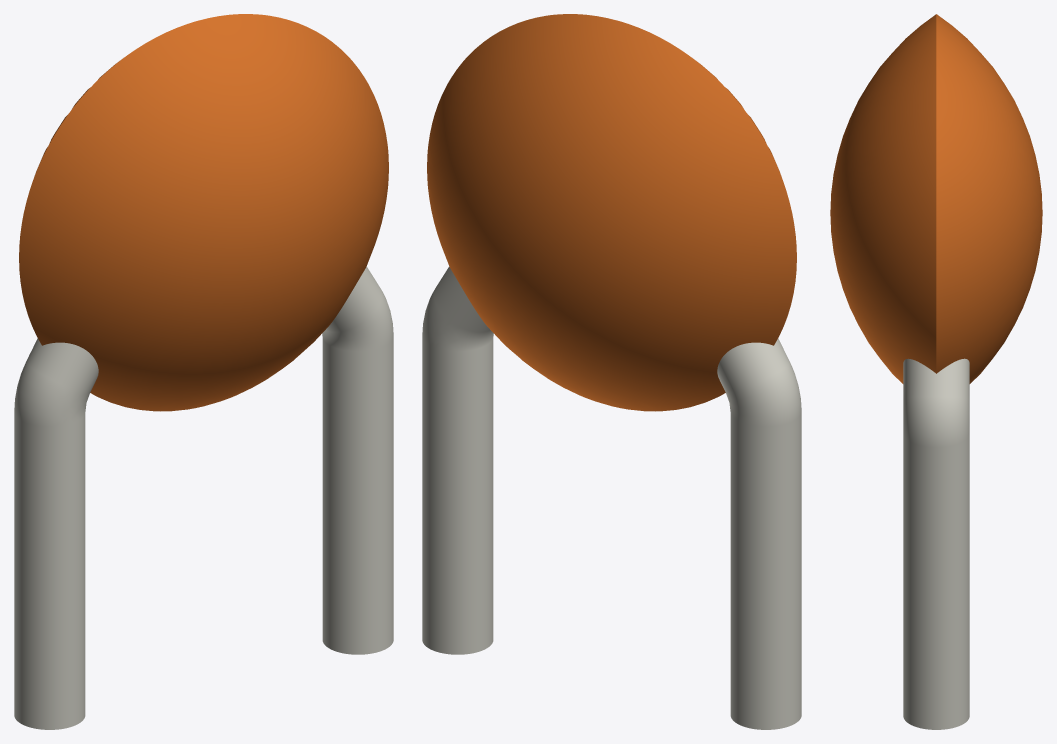
The model's file is c_disc_d3_0mm_w1_6mm_p2_50mm.glb.
3 views of the same model, side by side, from view 1: azimuth 30°, elevation 25°; view 2: azimuth 150°, elevation 25°; view 3: azimuth 270°, elevation 25° (orthographic). The views are drawn at different scales.
Visible parts, largest first — view 1: cap_ceramic_22p, pin_2, pin_1; view 2: cap_ceramic_22p, pin_2, pin_1; view 3: cap_ceramic_22p, pin_2.
Boxes of the visible parts, box(x1,y1,x2,y2) form: cap_ceramic_22p: box(14, 14, 393, 471); pin_2: box(322, 383, 393, 654); pin_1: box(14, 459, 85, 729); cap_ceramic_22p: box(422, 14, 801, 471); pin_2: box(422, 383, 493, 654); pin_1: box(730, 459, 801, 729); cap_ceramic_22p: box(830, 14, 1042, 489); pin_2: box(903, 477, 969, 729).
Size of the model in its own units: 0.003 by 0.0051 by 0.0016.
